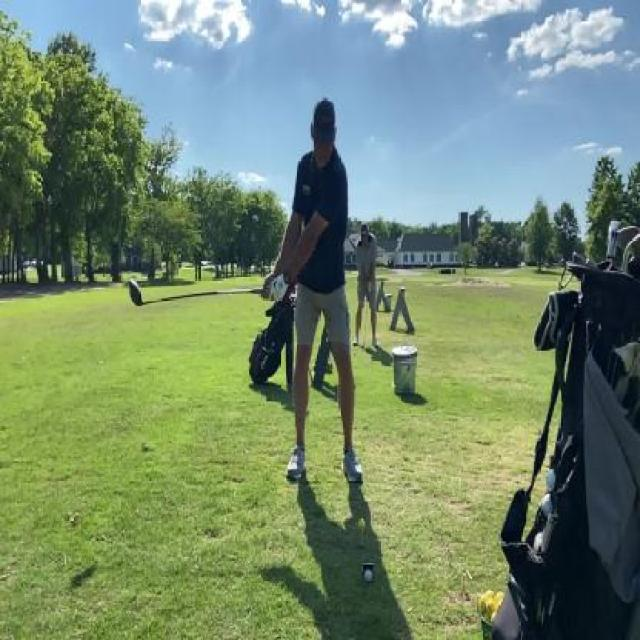club head: (128, 278, 148, 308)
